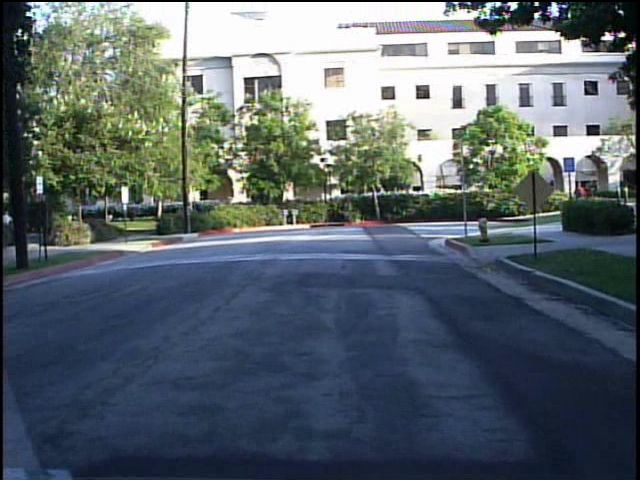person: (572, 180, 591, 223)
